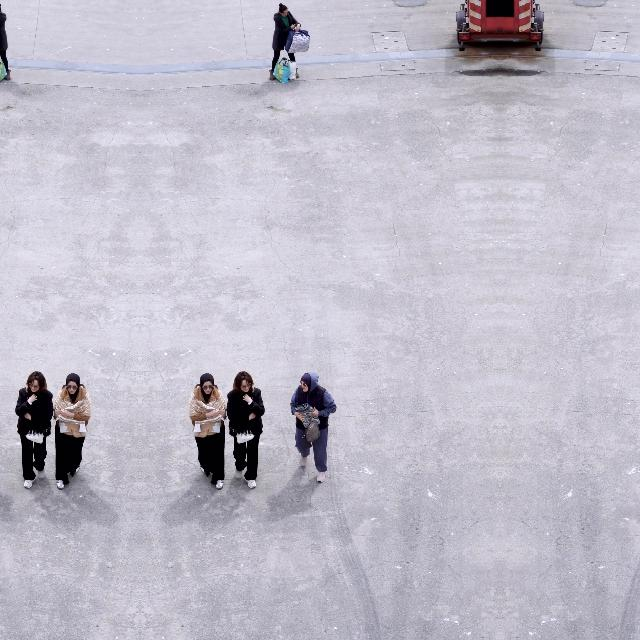person: (290, 372, 336, 482), (188, 372, 228, 490), (52, 372, 92, 490), (227, 371, 265, 489), (15, 371, 53, 489), (268, 4, 302, 80), (0, 3, 11, 80)
